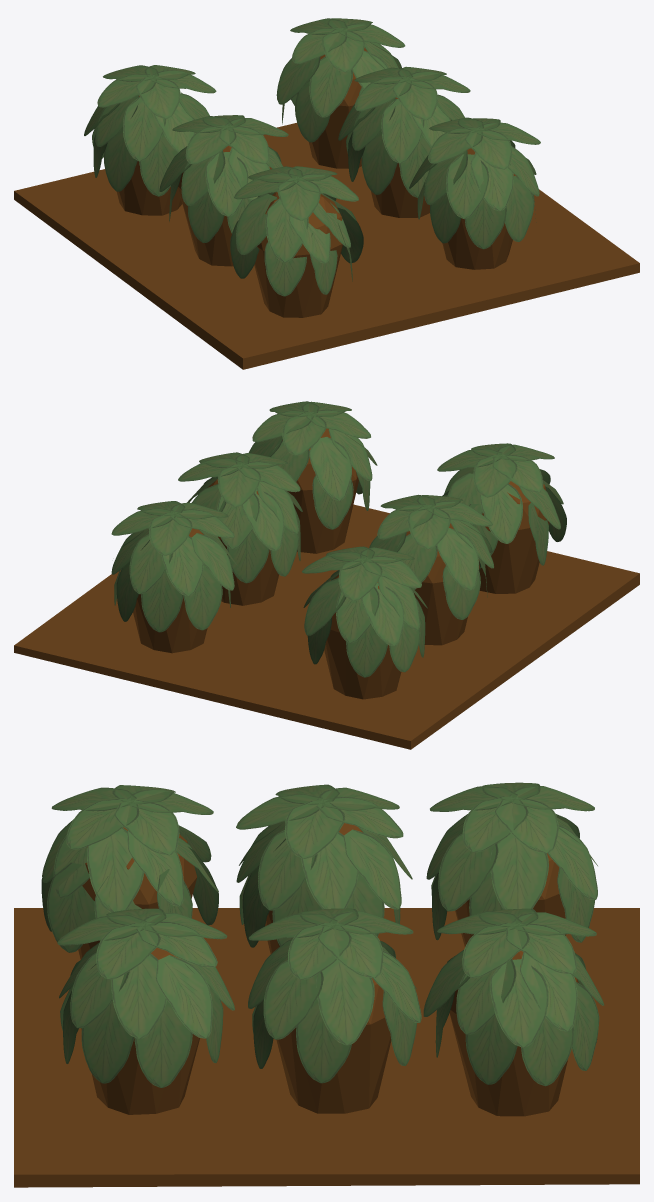
The model's file is Coffee.fbx.
The picture shows the model from 3 angles, top to bottom: view 1: azimuth 30°, elevation 25°; view 2: azimuth 150°, elevation 25°; view 3: azimuth 270°, elevation 25°; orthographic projection. The views are drawn at different scales.
Parts seen in each view (by area): view 1: Coffee.001, Plant.005, Plant, Plant.002, Coca_Leave.030, Coca_Leave.070, Coca_Leave.012, Coca_Leave.047, Plant.003, Coca_Leave.092, Coca_Leave.113, Plant.001 (+51 smaller); view 2: Coffee.001, Plant.005, Plant.003, Plant, Plant.004, Plant.002, Coca_Leave.006, Coca_Leave.086, Coca_Leave.107, Coca_Leave.054, Plant.001, Coca_Leave.060 (+48 smaller); view 3: Coffee.001, Plant.001, Plant.002, Plant, Coca_Leave.027, Coca_Leave.067, Coca_Leave.110, Coca_Leave.052, Coca_Leave.008, Coca_Leave.009, Coca_Leave.020, Coca_Leave.028 (+64 smaller).
Part boxes in pixels (x1,y1,x2,y2): Coffee.001: [14, 123, 639, 369]; Plant.005: [254, 192, 342, 317]; Plant: [442, 148, 516, 269]; Plant.002: [309, 47, 367, 168]; Coca_Leave.030: [381, 99, 424, 163]; Coca_Leave.070: [123, 97, 166, 161]; Coca_Leave.012: [446, 154, 489, 218]; Coca_Leave.047: [309, 56, 352, 117]; Plant.003: [117, 96, 182, 215]; Coca_Leave.092: [205, 152, 248, 216]; Coca_Leave.113: [265, 198, 308, 262]; Plant.001: [371, 97, 450, 217]; Coffee.001: [14, 504, 639, 749]; Plant.005: [479, 481, 549, 593]; Plant.003: [324, 575, 401, 699]; Plant: [282, 428, 358, 553]; Plant.004: [406, 523, 479, 645]; Plant.002: [133, 528, 207, 653]; Coca_Leave.006: [309, 437, 351, 500]; Coca_Leave.086: [436, 528, 478, 590]; Coca_Leave.107: [480, 484, 522, 543]; Coca_Leave.054: [141, 570, 183, 632]; Plant.001: [208, 479, 278, 605]; Coca_Leave.060: [183, 564, 222, 630]; Coffee.001: [14, 908, 639, 1187]; Plant.001: [276, 978, 391, 1113]; Plant.002: [449, 950, 578, 1116]; Plant: [81, 947, 199, 1114]; Coca_Leave.027: [316, 959, 374, 1045]; Coca_Leave.067: [490, 834, 548, 909]; Coca_Leave.110: [87, 828, 143, 912]; Coca_Leave.052: [490, 959, 548, 1047]; Coca_Leave.008: [156, 955, 212, 1038]; Coca_Leave.009: [111, 953, 167, 1039]; Coca_Leave.020: [134, 1000, 192, 1087]; Coca_Leave.028: [263, 960, 323, 1039].
Size of the model in its own units: 166 by 54.3 by 166.
